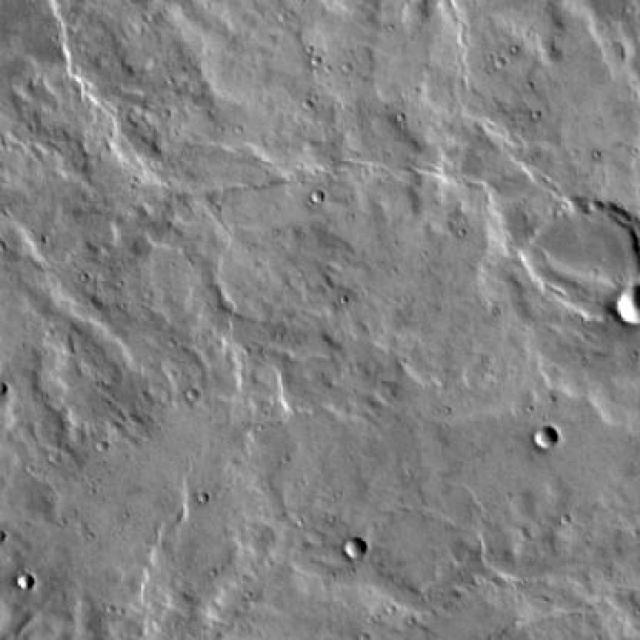crater: (524, 209, 640, 326), (612, 287, 639, 328), (534, 430, 558, 453), (344, 539, 365, 559), (15, 574, 32, 592)
